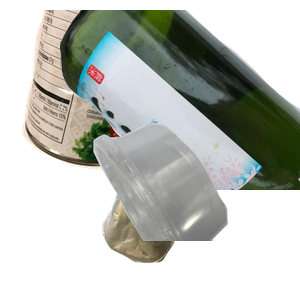glass: (60, 10, 300, 190)
metal: (20, 10, 199, 172)
plastic: (91, 120, 300, 300)
trash: (99, 155, 268, 300)
